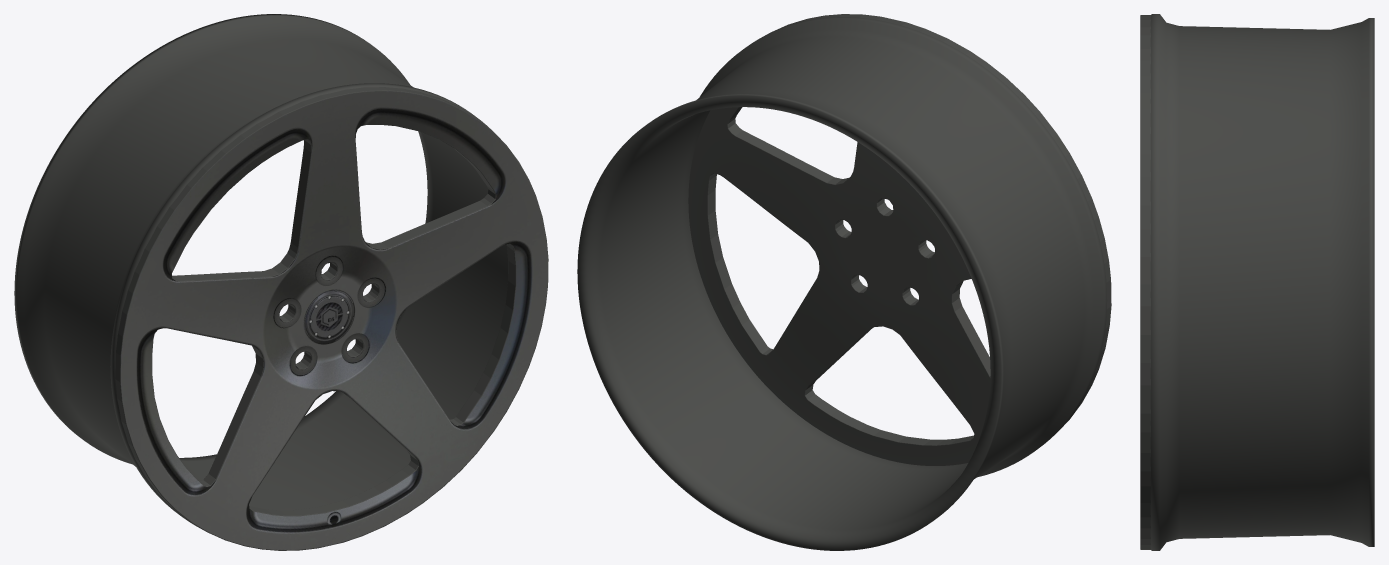
The model's file is e6-monoblock-hs3.glb.
3 renders of one model, left to right at view 1: azimuth 30°, elevation 25°; view 2: azimuth 150°, elevation 25°; view 3: azimuth 270°, elevation 25°, orthographic. The views are drawn at different scales.
Visible parts, largest first — view 1: Photo_traced_face_0, Approximate_rear_barrel; view 2: Approximate_rear_barrel, Photo_traced_face_0; view 3: Approximate_rear_barrel, Photo_traced_face_0.
Boxes of the visible parts, <box> form: Photo_traced_face_0: <box>115,87,548,550</box>; Approximate_rear_barrel: <box>14,14,507,529</box>; Approximate_rear_barrel: <box>577,17,1107,550</box>; Photo_traced_face_0: <box>688,14,1111,465</box>; Approximate_rear_barrel: <box>1150,14,1374,550</box>; Photo_traced_face_0: <box>1140,15,1150,549</box>.
Bounding box in the file's own units: 2.06 × 2.06 × 0.9.
2 materials, 1 textured.
